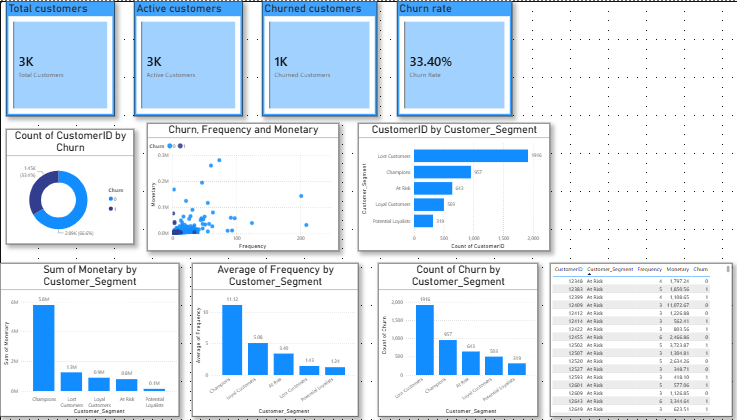

What the dashboard file says about the page in this screenshot:
{"tool":"powerbi","page":{"name":"Customer Analytics","canvas":[2000,2000],"ordinal":1},"visuals":[{"type":"cardVisual","title":"Total customers","fields":{"Data":["mea.Total Customers"]},"box":[16,0,272,288],"z":0},{"type":"cardVisual","title":"Active customers","fields":{"Data":["mea.Active Customers"]},"box":[336,0,272,288],"z":1000},{"type":"cardVisual","title":"Churned customers","fields":{"Data":["mea.Churned Customers"]},"box":[656,0,288,288],"z":2000},{"type":"cardVisual","title":"Churn rate","fields":{"Data":["mea.Churn Rate"]},"box":[992,0,288,288],"z":3000},{"type":"donutChart","fields":{"Category":["Customer_Analytics.Churn"],"Y":["CountNonNull(Customer_Analytics.CustomerID)"]},"box":[16,320,320,288],"z":4000},{"type":"scatterChart","fields":{"Y":["Customer_Analytics.Monetary"],"X":["Customer_Analytics.Frequency"],"Series":["Customer_Analytics.Churn"]},"box":[368,304,480,320],"z":5000},{"type":"clusteredBarChart","title":" CustomerID by Customer_Segment","fields":{"Category":["Customer_Analytics.Customer_Segment"],"Y":["Count(Customer_Analytics.CustomerID)"]},"box":[896,304,480,320],"z":6000},{"type":"clusteredColumnChart","fields":{"Category":["Customer_Analytics.Customer_Segment"],"Y":["Sum(Customer_Analytics.Monetary)"]},"box":[0,656,448,384],"z":7000},{"type":"clusteredColumnChart","fields":{"Category":["Customer_Analytics.Customer_Segment"],"Y":["Avg(Customer_Analytics.Frequency)"]},"box":[512,656,416,384],"z":8000},{"type":"clusteredColumnChart","fields":{"Category":["Customer_Analytics.Customer_Segment"],"Y":["CountNonNull(Customer_Analytics.Churn)"]},"box":[992,656,400,384],"z":9000},{"type":"tableEx","fields":{"Values":["Customer_Analytics.CustomerID","Customer_Analytics.Customer_Segment","Customer_Analytics.Frequency","Customer_Analytics.Monetary","Customer_Analytics.Churn"]},"box":[496,1056,432,352],"z":10000}]}

Visuals, with their boxes on the page's 2000x2000 design canvas (x1, y1, x2, y2). These are canvas units, not pixel positions in the 737x420 screenshot, which may show the page scaled, cropped or inside an application window:
"Total customers" cardVisual: l=16, t=0, r=288, b=288
"Active customers" cardVisual: l=336, t=0, r=608, b=288
"Churned customers" cardVisual: l=656, t=0, r=944, b=288
"Churn rate" cardVisual: l=992, t=0, r=1280, b=288
donutChart - Customer_Analytics.Churn x CountNonNull(Customer_Analytics.CustomerID): l=16, t=320, r=336, b=608
scatterChart - Customer_Analytics.Monetary x Customer_Analytics.Frequency: l=368, t=304, r=848, b=624
" CustomerID by Customer_Segment" clusteredBarChart: l=896, t=304, r=1376, b=624
clusteredColumnChart - Customer_Analytics.Customer_Segment x Sum(Customer_Analytics.Monetary): l=0, t=656, r=448, b=1040
clusteredColumnChart - Customer_Analytics.Customer_Segment x Avg(Customer_Analytics.Frequency): l=512, t=656, r=928, b=1040
clusteredColumnChart - Customer_Analytics.Customer_Segment x CountNonNull(Customer_Analytics.Churn): l=992, t=656, r=1392, b=1040
tableEx - Customer_Analytics.CustomerID x Customer_Analytics.Customer_Segment: l=496, t=1056, r=928, b=1408
